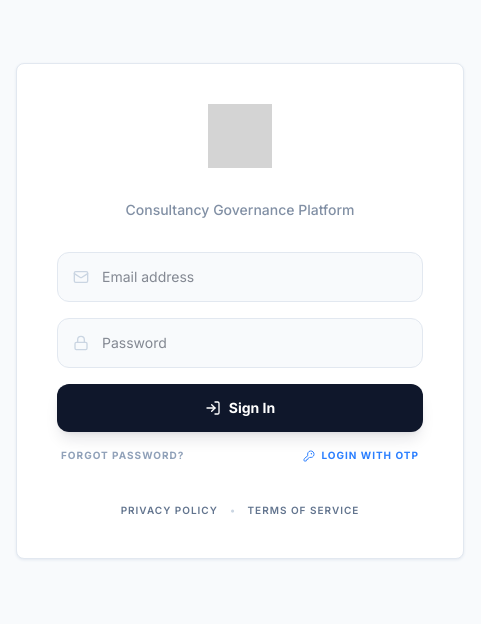
Test: LoginPage UI › switches to OTP request mode
The image size is (481, 624).
Click the button "Login with OTP": point(361, 456) [303, 448, 419, 463]
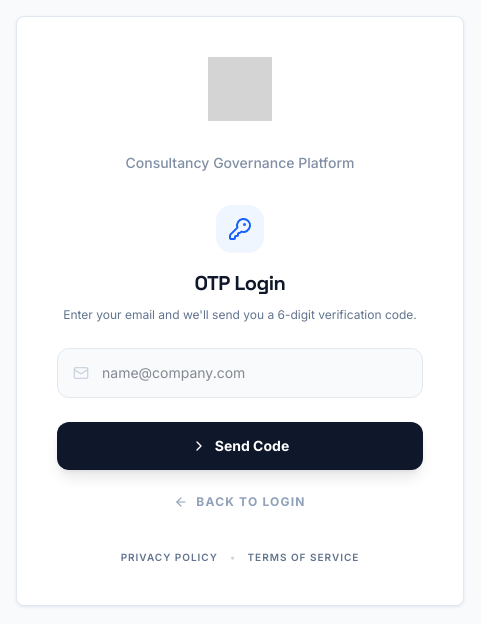
Expected: the field labelled "password" is not shown
Now the button "Send Code" is shown, box [57, 422, 423, 470]
